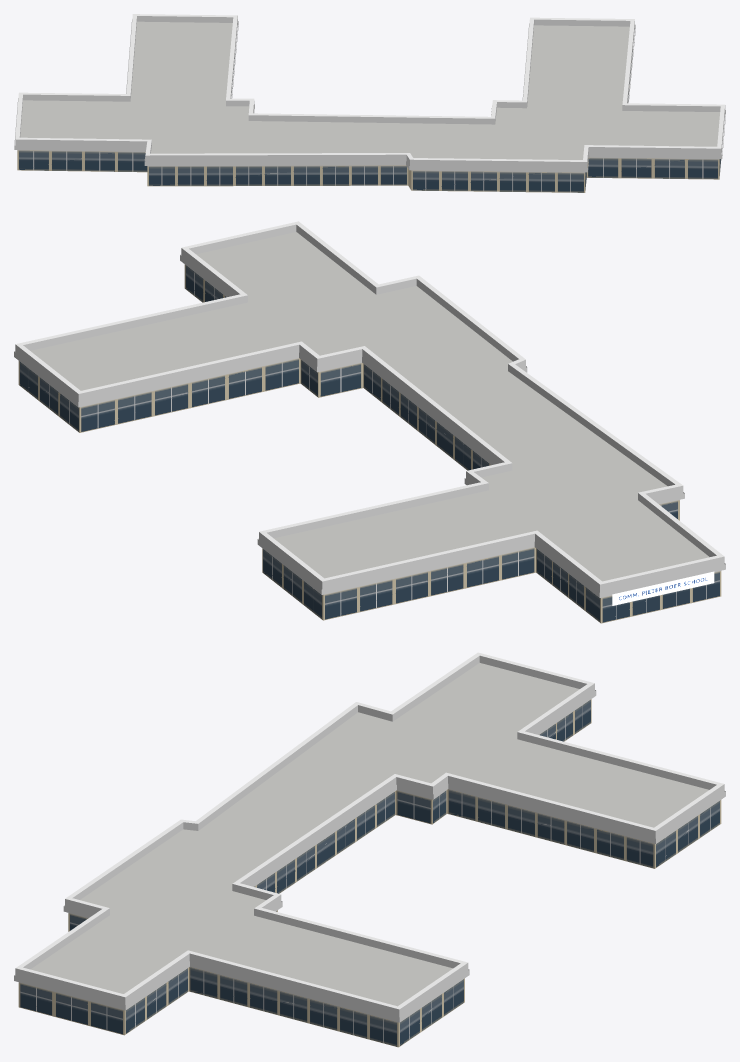
File: pieterboer.glb
3 renders of one model, top to bottom at view 1: azimuth 30°, elevation 25°; view 2: azimuth 150°, elevation 25°; view 3: azimuth 270°, elevation 25°, orthographic. The views are drawn at different scales.
Visible parts, largest first — view 1: pieterboer_lod0; view 2: pieterboer_lod0; view 3: pieterboer_lod0.
Boxes of the visible parts, <box> form: pieterboer_lod0: <box>14,14,725,192</box>; pieterboer_lod0: <box>14,221,725,623</box>; pieterboer_lod0: <box>14,652,725,1047</box>.
Size of what is drawn, in the model's own units: 85.67 by 4.4 by 71.97.
4 materials, 2 textured.
